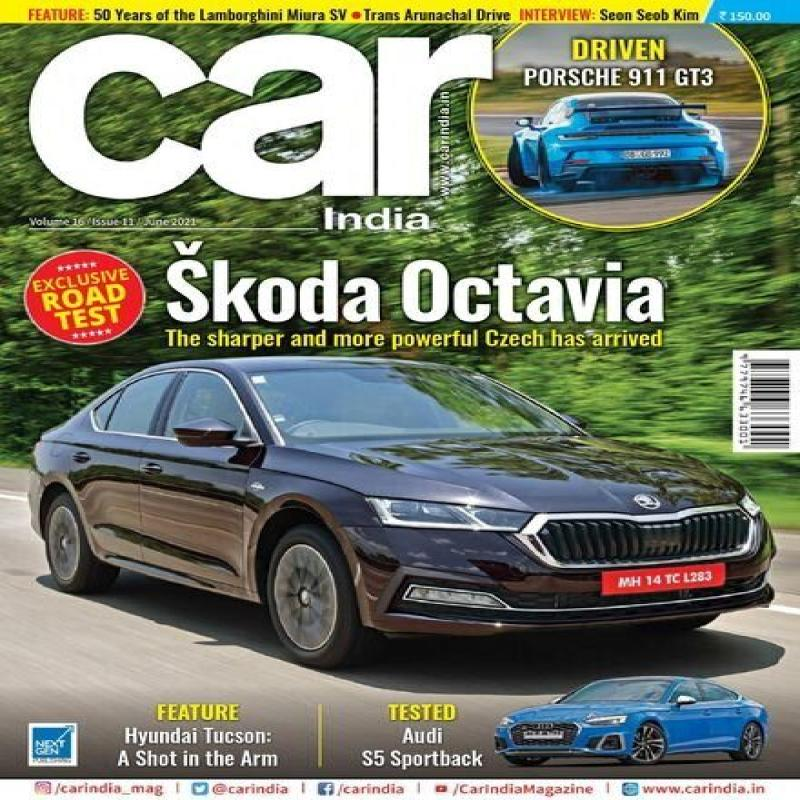car: (27, 337, 774, 674)
